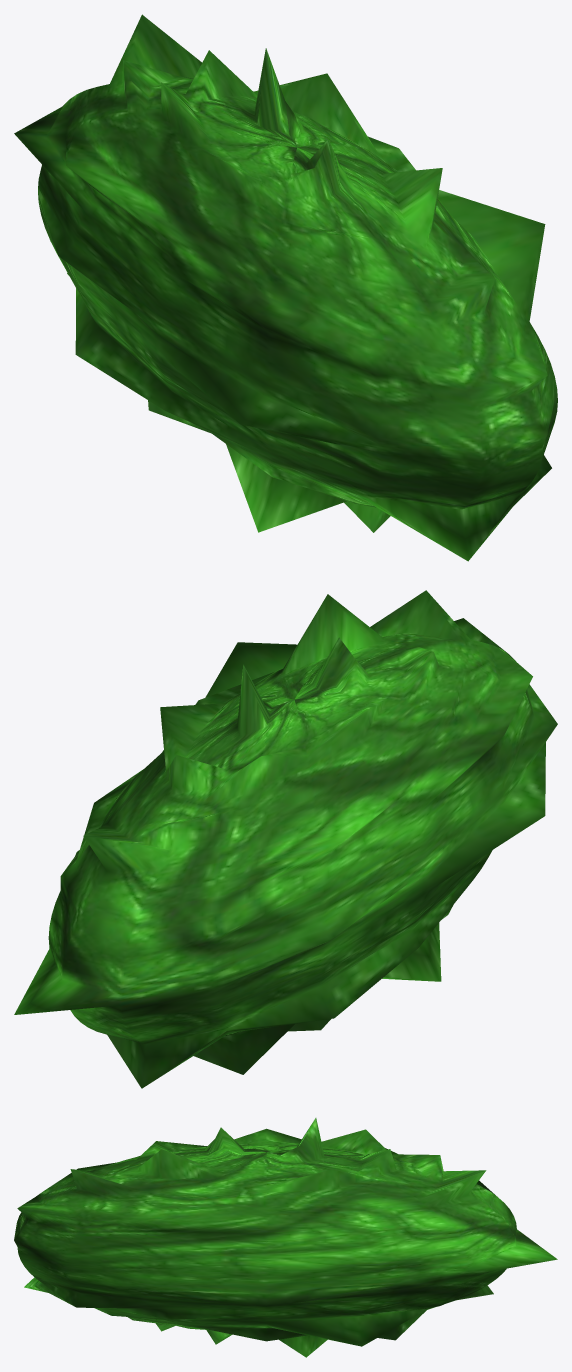
File: Bacteria_Maya.fbx
The picture shows the model from 3 angles, top to bottom: view 1: azimuth 30°, elevation 25°; view 2: azimuth 150°, elevation 25°; view 3: azimuth 270°, elevation 25°; orthographic projection. The views are drawn at different scales.
Visible parts, largest first — view 1: pSphere1; view 2: pSphere1; view 3: pSphere1.
Part boxes in pixels (x1=…): pSphere1: x1=14, y1=14, x2=557, y2=561; pSphere1: x1=14, y1=590, x2=557, y2=1088; pSphere1: x1=14, y1=1118, x2=557, y2=1357.
Bounding box in the file's own units: 229 × 266 × 574.
Materials: 1 (1 with a texture image).
